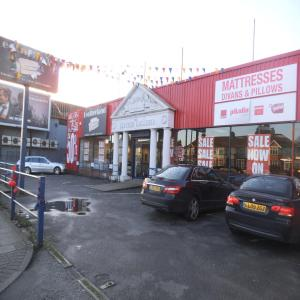Vehicle-registration-plate: (243, 201, 269, 214), (150, 184, 160, 191)
